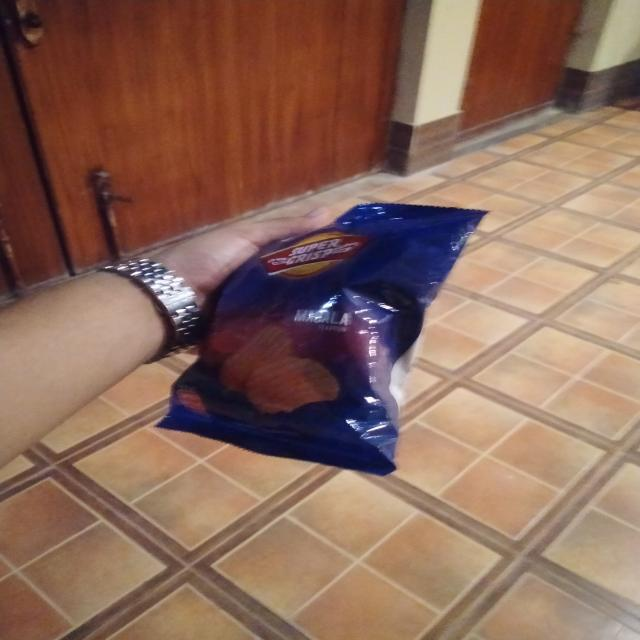Plastic: (198, 210, 430, 461)
